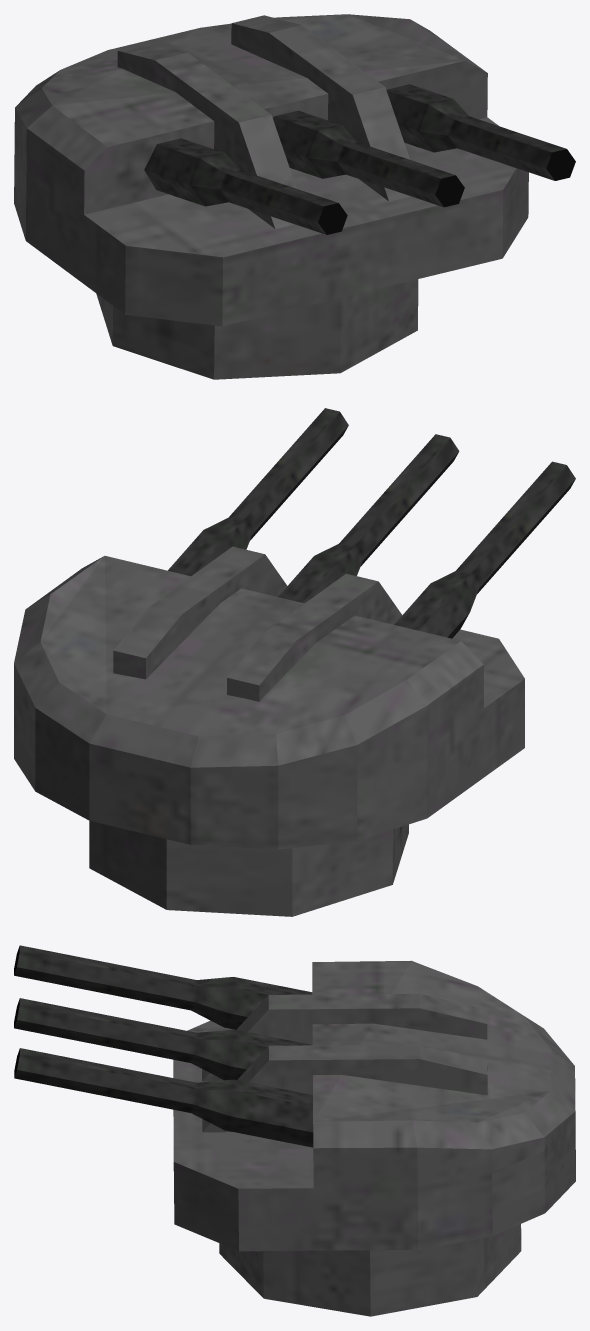
File: Sith_Destroyer_Turret_01.obj
3 renders of one model, top to bottom at view 1: azimuth 30°, elevation 25°; view 2: azimuth 150°, elevation 25°; view 3: azimuth 270°, elevation 25°, orthographic. The views are drawn at different scales.
Visible parts, largest first — view 1: Turret_01, Barrel_01; view 2: Turret_01, Barrel_01; view 3: Turret_01, Barrel_01.
Boxes of the visible parts, left/top/right/bottom form: Turret_01: left=14, top=14, right=528, bottom=379; Barrel_01: left=144, top=84, right=575, bottom=234; Turret_01: left=14, top=546, right=524, bottom=916; Barrel_01: left=168, top=408, right=575, bottom=638; Turret_01: left=173, top=960, right=575, bottom=1316; Barrel_01: left=14, top=945, right=313, bottom=1147.
Size of the model in its own units: 12.02 by 7.9 by 15.95.
